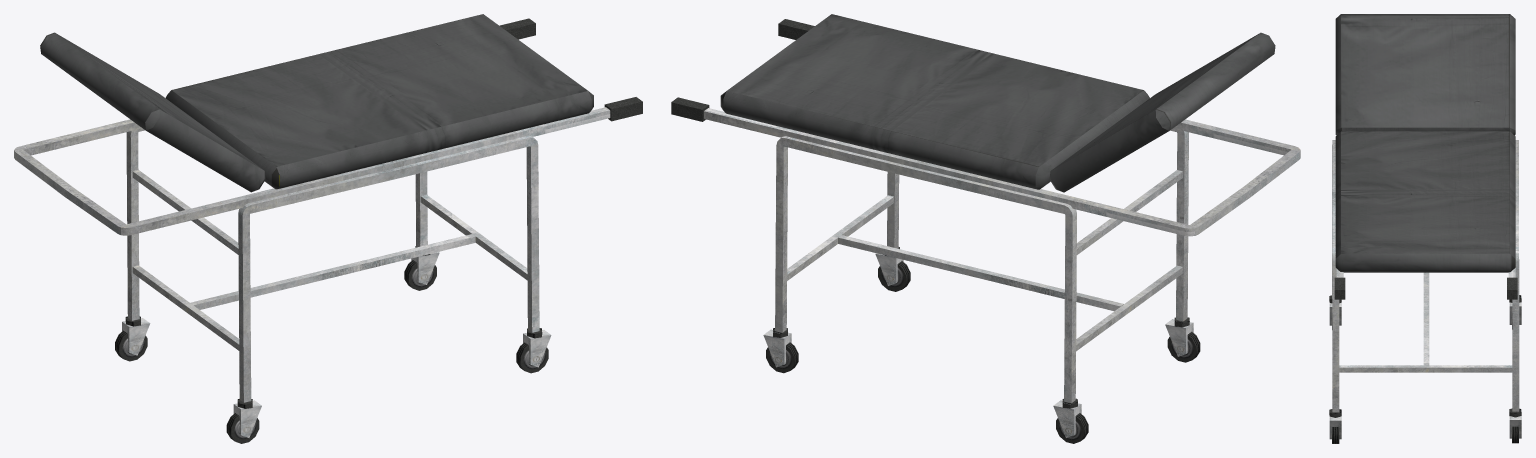
File: ex_couch.glb
3 views of the same model, side by side, from view 1: azimuth 30°, elevation 25°; view 2: azimuth 150°, elevation 25°; view 3: azimuth 270°, elevation 25° (orthographic). The views are drawn at different scales.
Parts seen in each view (by area): view 1: ex-bed; view 2: ex-bed; view 3: ex-bed.
Boxes of the visible parts, x1=… form: ex-bed: x1=14, y1=14, x2=642, y2=443; ex-bed: x1=671, y1=14, x2=1300, y2=443; ex-bed: x1=1329, y1=14, x2=1521, y2=443.
Bounding box in the file's own units: 79.1 × 50.63 × 31.37.
1 material, 1 textured.
